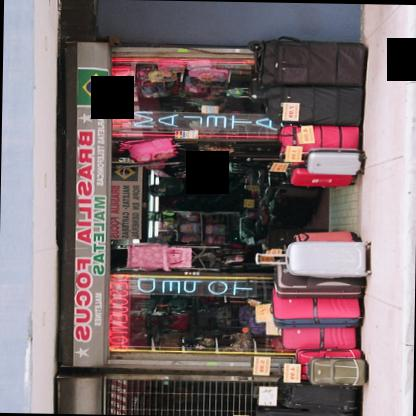backpack: (120, 137, 178, 163), (187, 65, 229, 81), (149, 176, 183, 195), (224, 157, 255, 173), (147, 69, 175, 81), (180, 220, 200, 233), (205, 223, 225, 235), (206, 212, 226, 224), (205, 234, 228, 243), (223, 86, 244, 95)
handbag: (150, 311, 189, 329), (249, 321, 280, 339), (198, 145, 234, 152)
suitcase: (236, 46, 326, 358), (256, 240, 372, 277), (265, 85, 364, 125), (273, 288, 360, 327), (273, 264, 365, 298), (283, 383, 361, 410), (282, 124, 359, 150), (306, 356, 367, 385), (280, 326, 359, 348), (304, 147, 367, 174), (289, 160, 355, 185), (264, 227, 327, 248), (255, 404, 361, 416), (284, 229, 360, 244)
